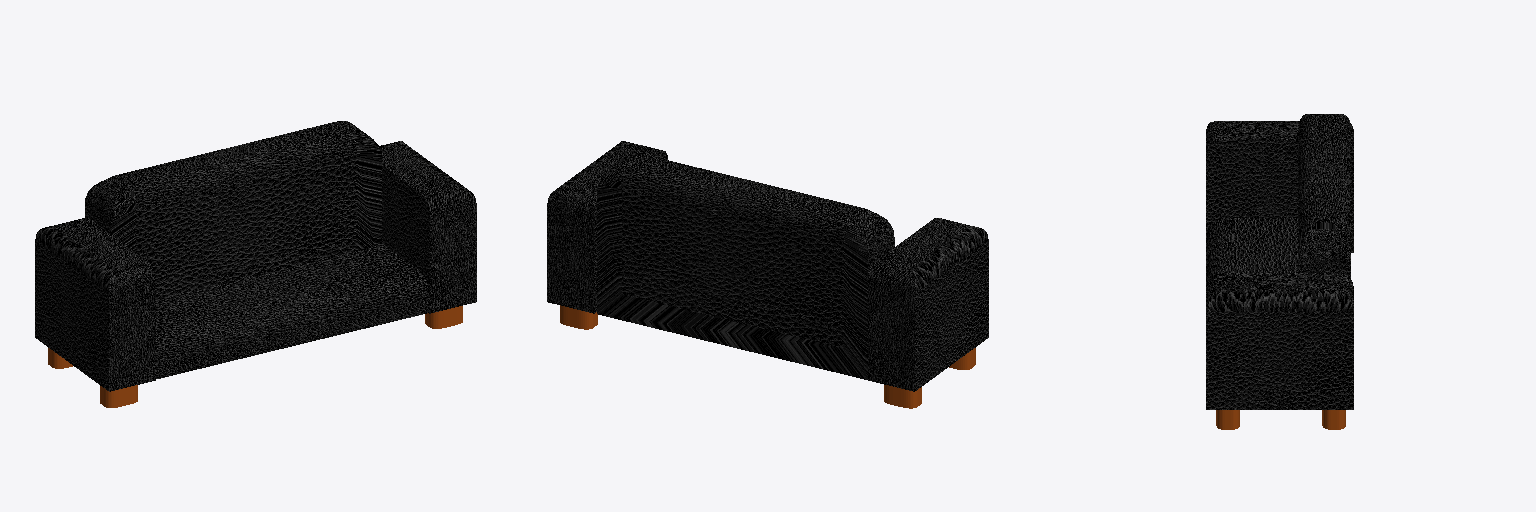
3 renders of one model, left to right at view 1: azimuth 30°, elevation 25°; view 2: azimuth 150°, elevation 25°; view 3: azimuth 270°, elevation 25°, orthographic.
Parts seen in each view (by area): view 1: default, Box009, Box013, Box014, Box004, Box003; view 2: default, Box013, Box014, Box005, Box002; view 3: Box014, Box013, default, Box009.
Boxes of the visible parts, x1,y1,x2,y2 form: default: [85, 121, 381, 299]; Box009: [156, 243, 429, 378]; Box013: [35, 218, 155, 391]; Box014: [379, 141, 476, 313]; Box004: [100, 385, 137, 407]; Box003: [425, 306, 462, 328]; default: [597, 154, 894, 379]; Box013: [868, 218, 988, 391]; Box014: [547, 141, 667, 313]; Box005: [884, 385, 921, 408]; Box002: [560, 305, 597, 329]; Box014: [1206, 273, 1353, 409]; Box013: [1206, 121, 1353, 252]; default: [1298, 114, 1350, 278]; Box009: [1206, 218, 1297, 285].
Size of the model in its own units: 14.75 by 6.66 by 5.13.
Materials: 2 (1 with a texture image).